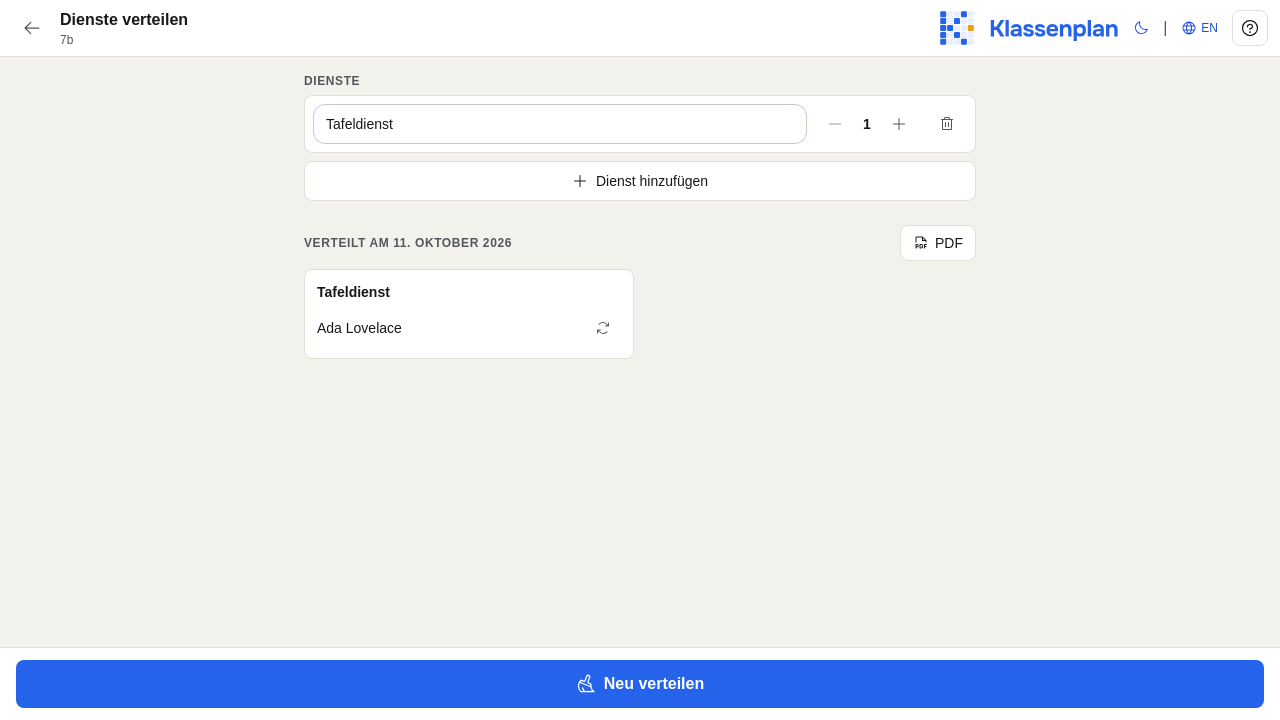
Dienste verteilen › stands someone else in for a student who cannot do it
Click the button named "Ada Lovelace durch jemand anderen ersetzen". click: (603, 328)
box: [585,310,621,346]
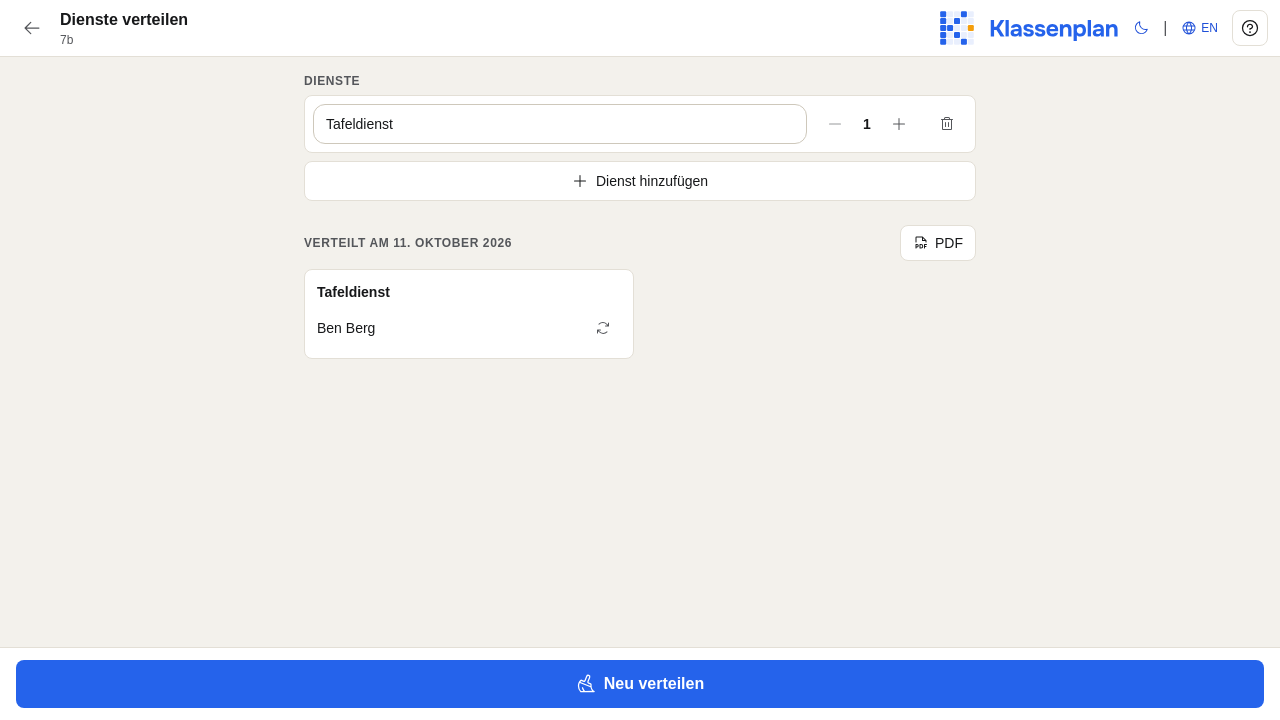
Check: the text "Ben Berg" is shown, box [317,318,375,338]
Check: the text "Ada Lovelace" is gone
